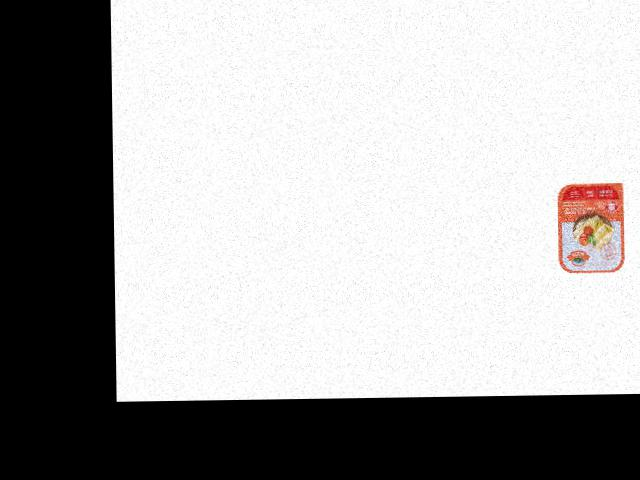cheese: (553, 177, 626, 275)
